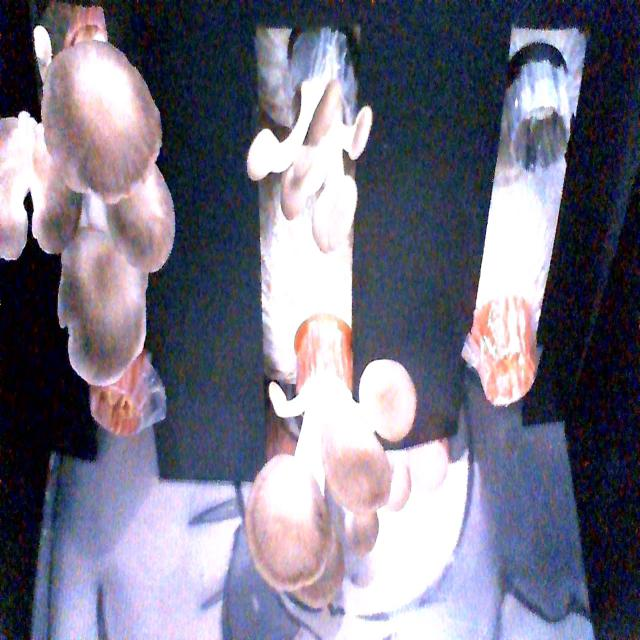big: (0, 31, 172, 369), (251, 350, 425, 607)
nfound: (510, 75, 576, 190), (80, 361, 162, 453), (486, 304, 542, 421)
small: (254, 61, 388, 250)
